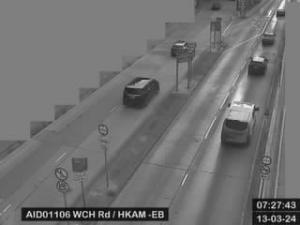vehicle: (221, 102, 259, 146), (122, 76, 160, 108), (250, 56, 268, 74), (172, 39, 188, 56), (262, 32, 275, 46), (211, 3, 221, 10), (278, 10, 286, 18)
